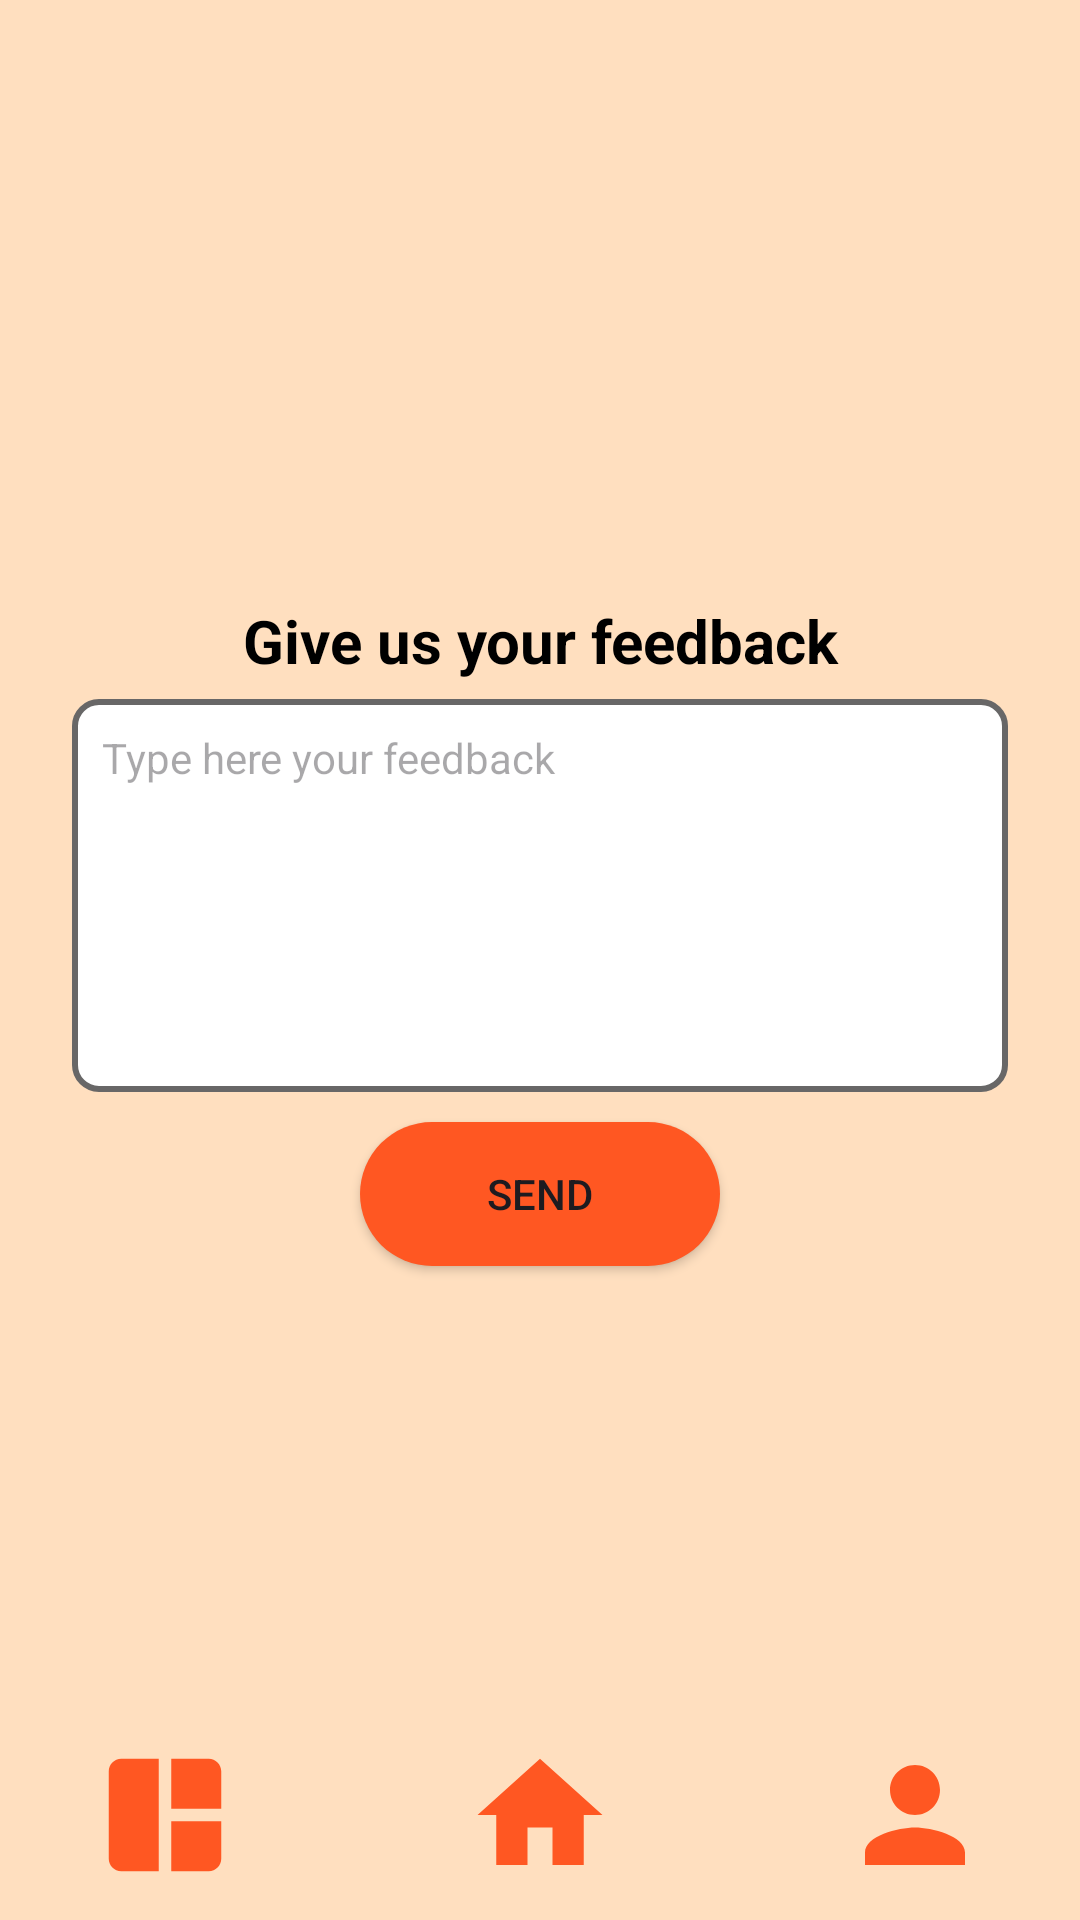

Named icons in this screenshot (1080×1920) and their centers, (x=x, y=y):
categories: (x=165, y=1815)
home: (x=540, y=1812)
personx: (x=915, y=1815)
